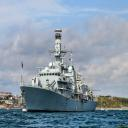Fragata: (16, 28, 96, 116)
